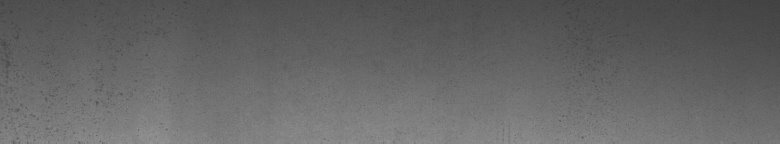ib: (4, 35, 148, 120)
